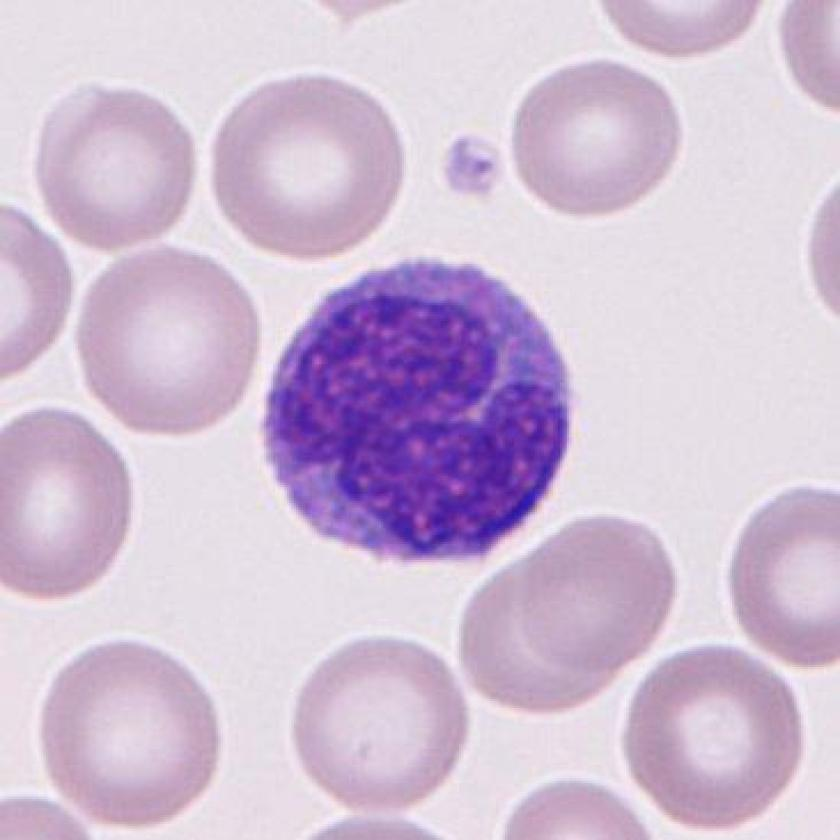monocyte: (247, 243, 598, 582)
